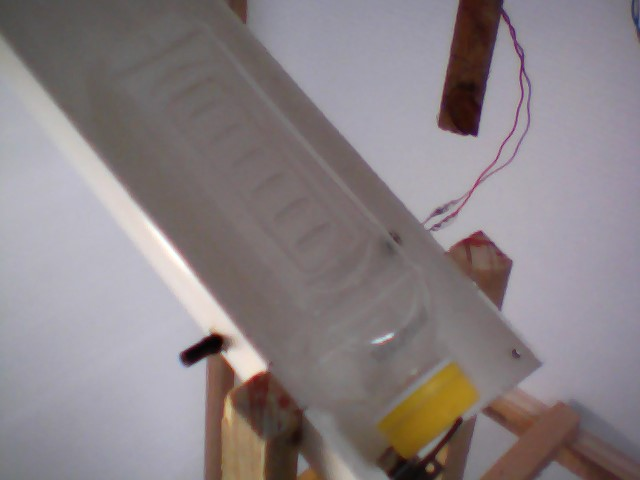plastico: (86, 10, 490, 462)
